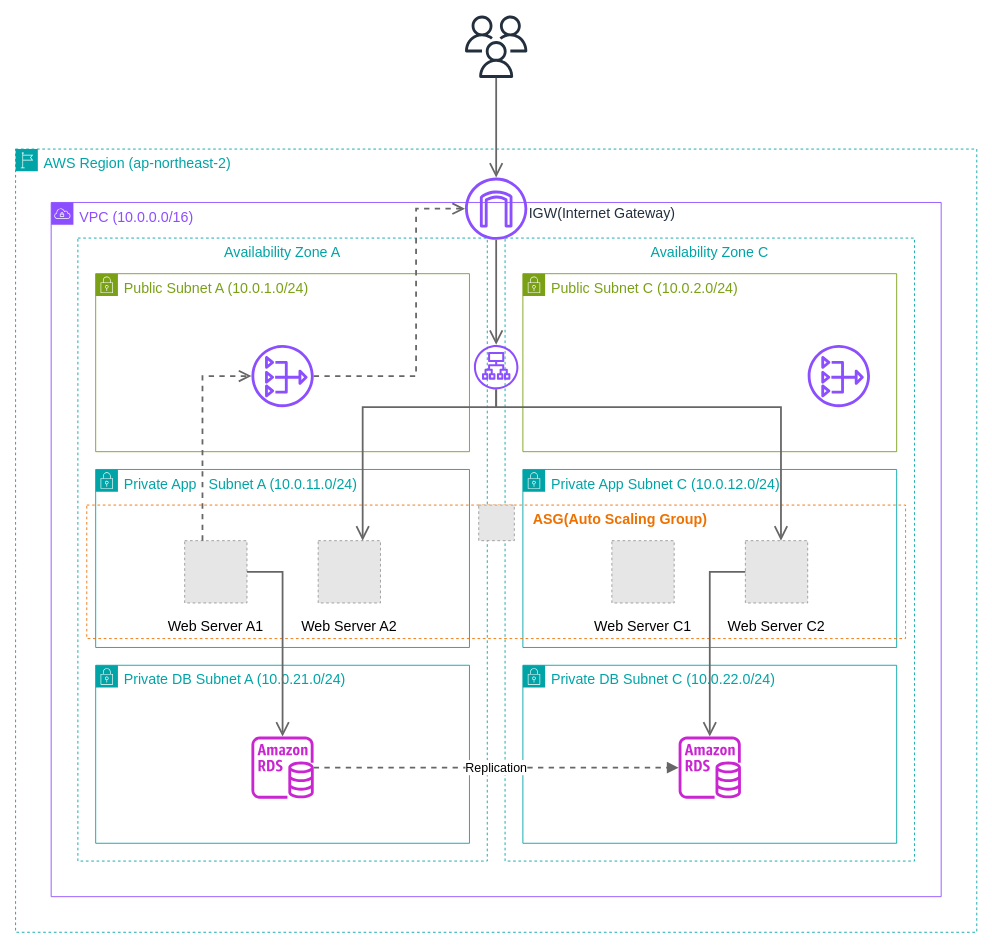
The diagram is 992 pixels wide and 948 high, and some of its shapes have lost their labels. Grey dashed boxes stand in for pictures. Each missing label, with the centre of its shape:
ALB (Application Load Balancer): pixel 495 366
NAT Gateway A: pixel 282 375
NAT Gateway C: pixel 838 375
RDS Primary: pixel 282 767
RDS Standby: pixel 709 767
Users: pixel 496 46
